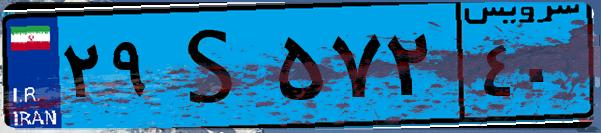0: (525, 38, 570, 115)
2: (385, 28, 445, 110), (57, 26, 110, 100)
4: (475, 38, 525, 113)
5: (270, 28, 330, 110)
7: (330, 28, 385, 110)
9: (110, 28, 158, 98)
S: (158, 12, 270, 120)
